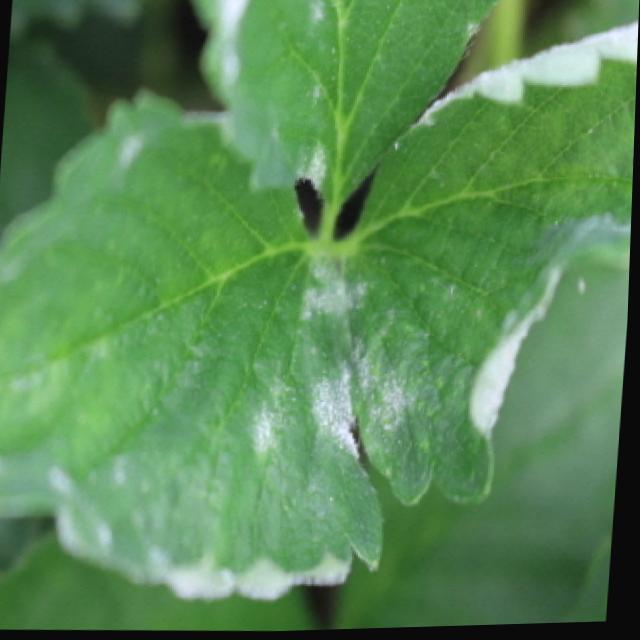Powdery Mildew Leaf: (0, 86, 385, 603), (341, 22, 639, 508), (190, 0, 500, 212)
